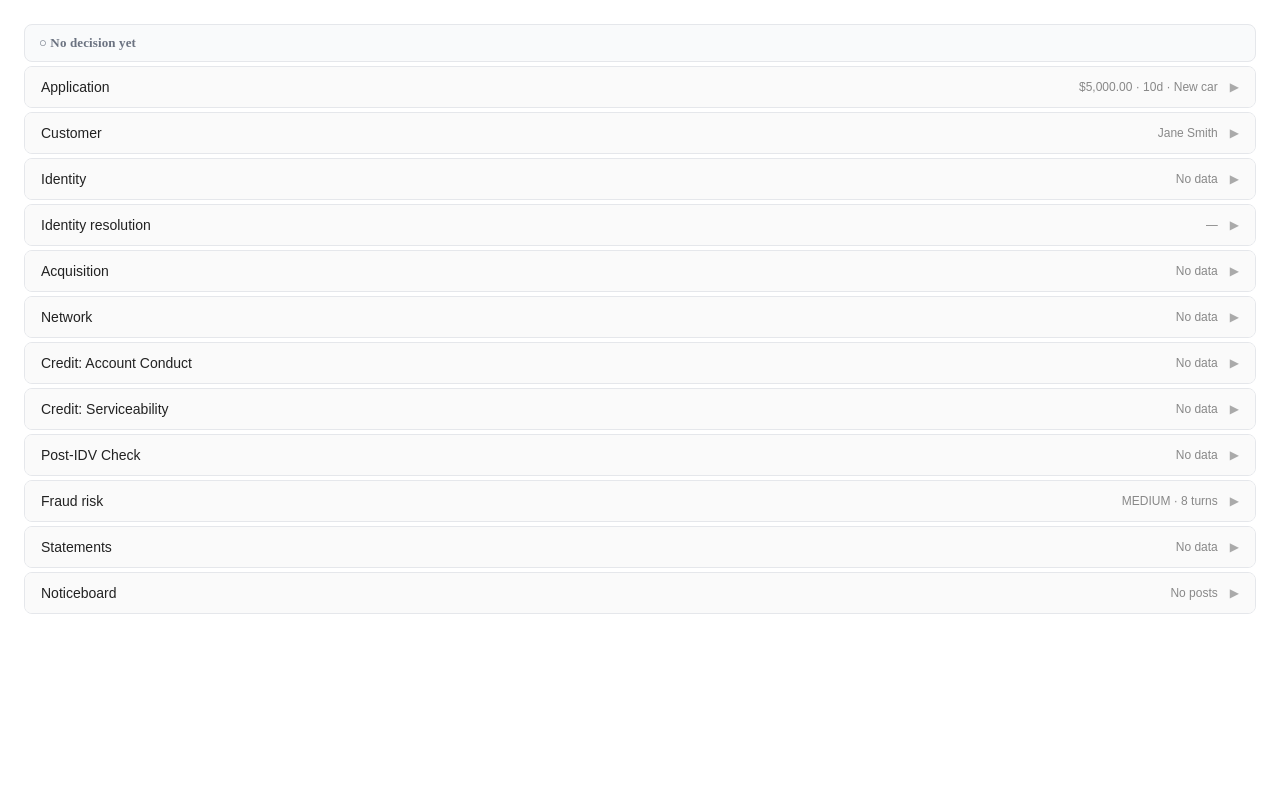
Test: AssessmentPanel — fraud risk summary › shows "MEDIUM · N turns" with peak details and a latest-only preview
Expected: the text "MEDIUM · 8 turns" is shown, x1=1122 y1=494 x2=1218 y2=508
Click the button "Fraud risk MEDIUM · 8 turns ▶": (72, 501) x1=25 y1=481 x2=1255 y2=521
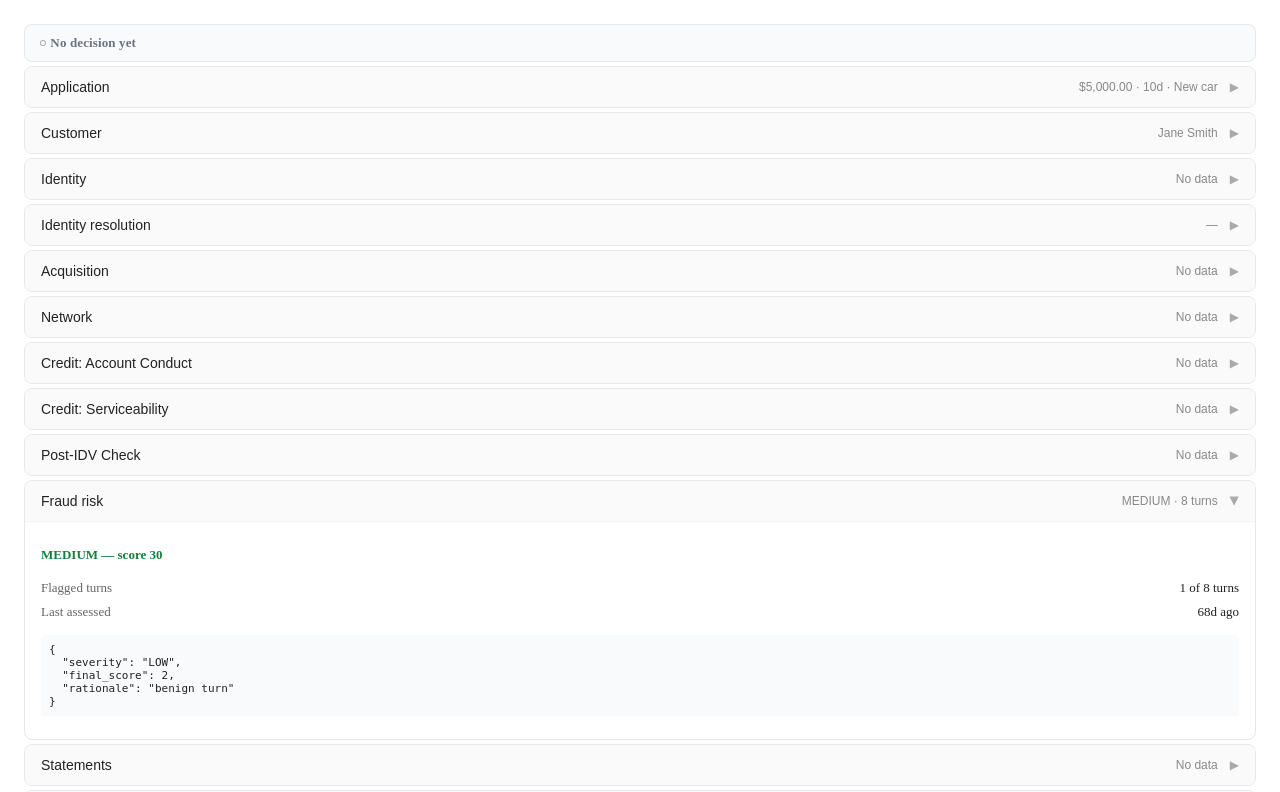
Expected: the text "MEDIUM — score 30" is shown, x1=41 y1=547 x2=162 y2=562
Expected: the text "1 of 8 turns" is shown, x1=1179 y1=580 x2=1239 y2=596
Expected: the text "benign turn" is shown, x1=49 y1=643 x2=234 y2=708
